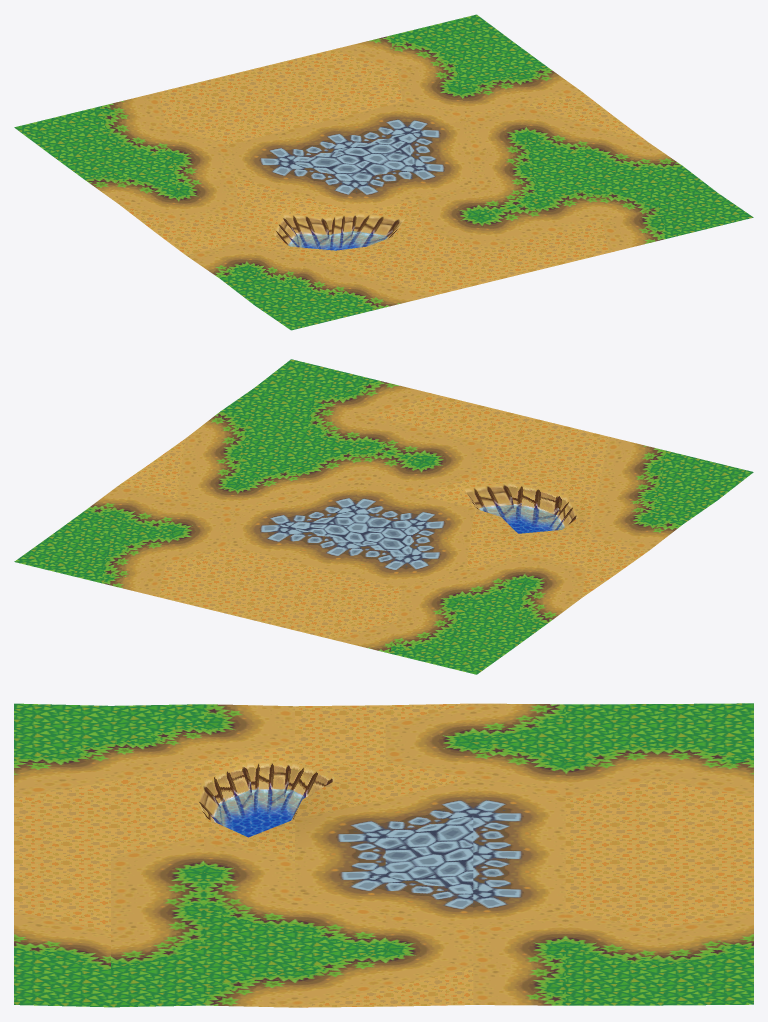
File: c_grd_f_m_3.001.glb
3 views of the same model, one above another, from view 1: azimuth 30°, elevation 25°; view 2: azimuth 150°, elevation 25°; view 3: azimuth 270°, elevation 25° (orthographic). The views are drawn at different scales.
Visible parts, largest first — view 1: c_grd_f_m_3.001; view 2: c_grd_f_m_3.001; view 3: c_grd_f_m_3.001.
Part boxes in pixels (x1,y1,x2,y2): c_grd_f_m_3.001: (14, 14, 753, 330); c_grd_f_m_3.001: (14, 359, 753, 674); c_grd_f_m_3.001: (14, 703, 753, 1007).
Bounding box in the file's own units: 32 × 4.08 × 33.2.
Materials: 7 (7 with a texture image).
